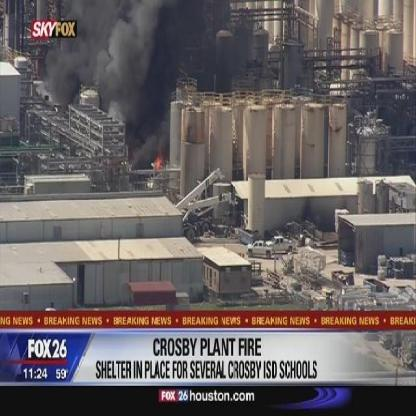fire: (152, 156, 164, 171)
